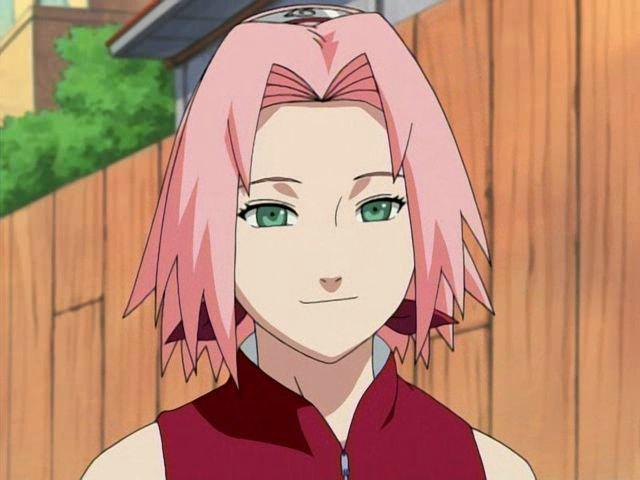sakura: (201, 4, 420, 368)
